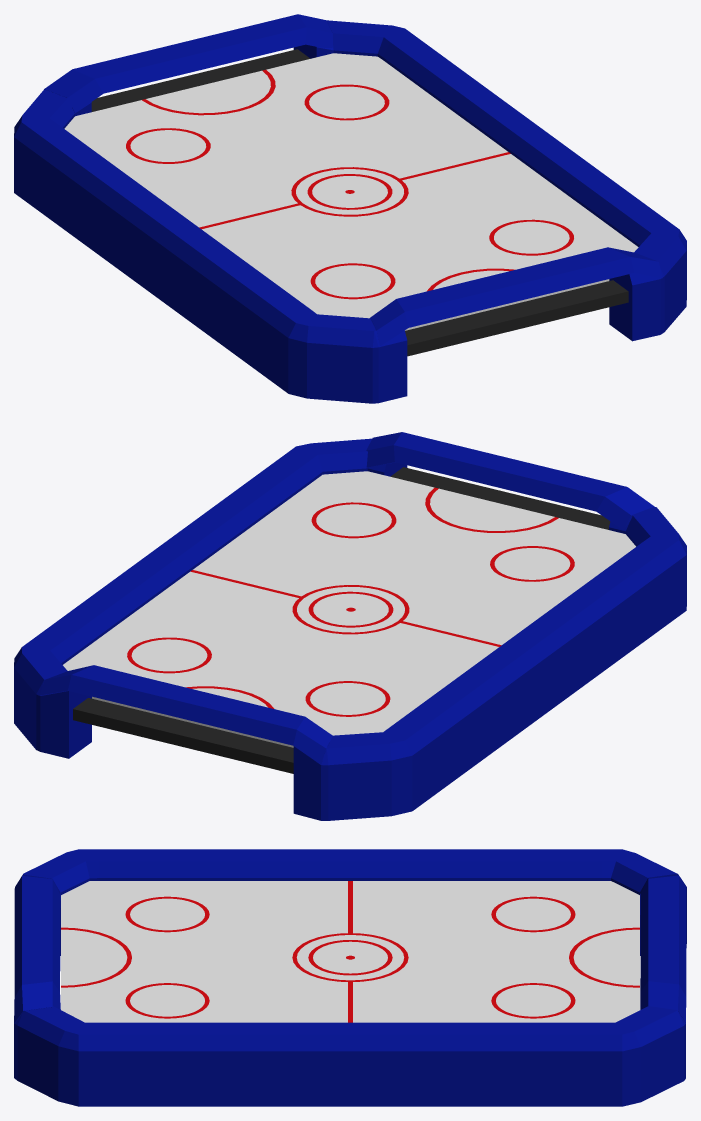
The model's file is HockeyBoard 1.fbx.
3 renders of one model, top to bottom at view 1: azimuth 30°, elevation 25°; view 2: azimuth 150°, elevation 25°; view 3: azimuth 270°, elevation 25°, orthographic.
Parts seen in each view (by area): view 1: Board, Edge, TopPackReceiver, BottomPackReceiver, CenterOuterCircle, RightTopCircle, CenterInnerCircle, LeftBottomCircle, LeftTopCIrcle, RightBottomCircle; view 2: Board, Edge, BottomPackReceiver, TopPackReceiver, CenterOuterCircle, LeftTopCIrcle, LeftBottomCircle, CenterInnerCircle, RightBottomCircle, RightTopCircle; view 3: Edge, Board, CenterOuterCircle, LeftBottomCircle, LeftTopCIrcle, CenterInnerCircle, RightBottomCircle, RightTopCircle, BottomCircle, TopCIrcle.
Boxes of the visible parts, x1=… form: Board: x1=64, y1=53, x2=638, y2=330; Edge: x1=14, y1=14, x2=686, y2=403; TopPackReceiver: x1=405, y1=280, x2=628, y2=356; BottomPackReceiver: x1=91, y1=49, x2=310, y2=111; CenterOuterCircle: x1=291, y1=167, x2=408, y2=216; RightTopCircle: x1=310, y1=263, x2=395, y2=299; CenterInnerCircle: x1=307, y1=174, x2=392, y2=209; LeftBottomCircle: x1=304, y1=84, x2=389, y2=120; LeftTopCIrcle: x1=489, y1=219, x2=573, y2=255; RightBottomCircle: x1=126, y1=128, x2=210, y2=163; Board: x1=63, y1=471, x2=635, y2=747; Edge: x1=14, y1=432, x2=686, y2=820; BottomPackReceiver: x1=73, y1=698, x2=293, y2=773; TopPackReceiver: x1=390, y1=467, x2=610, y2=529; CenterOuterCircle: x1=292, y1=585, x2=409, y2=634; LeftTopCIrcle: x1=311, y1=502, x2=396, y2=538; LeftBottomCircle: x1=127, y1=637, x2=211, y2=673; CenterInnerCircle: x1=308, y1=591, x2=393, y2=627; RightBottomCircle: x1=305, y1=681, x2=390, y2=716; RightTopCircle: x1=490, y1=546, x2=574, y2=581; Edge: x1=14, y1=849, x2=686, y2=1106; Board: x1=61, y1=881, x2=639, y2=1022; CenterOuterCircle: x1=292, y1=933, x2=408, y2=982; LeftBottomCircle: x1=491, y1=983, x2=575, y2=1018; LeftTopCIrcle: x1=125, y1=983, x2=209, y2=1018; CenterInnerCircle: x1=308, y1=940, x2=392, y2=975; RightBottomCircle: x1=491, y1=896, x2=575, y2=932; RightTopCircle: x1=125, y1=896, x2=209, y2=932; BottomCircle: x1=569, y1=927, x2=639, y2=987; TopCIrcle: x1=61, y1=927, x2=131, y2=987.
Size of the model in its own units: 299 by 58.39 by 441.
